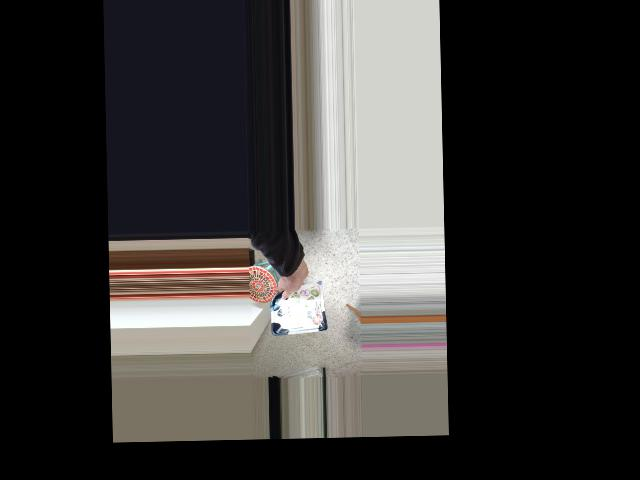cheese: (268, 262, 325, 324)
